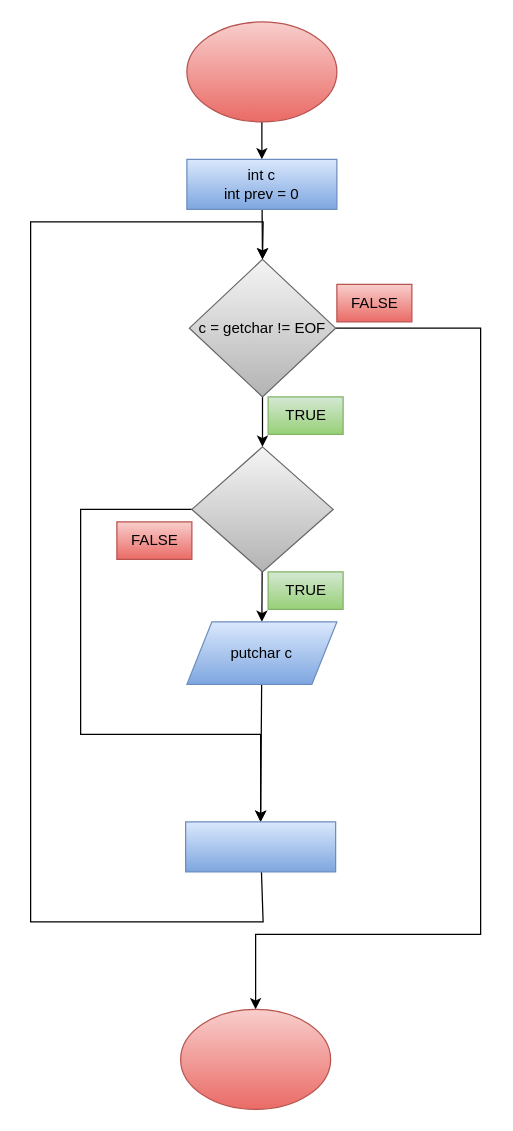
Some shapes in this 513 by 1131 pixel diagram are drawn without their labels. Each missing label, with the centre of its shape:
"c != ' ' || prev != ' '" belongs at point 262,509.
"END" belongs at point 255,1058.
"prev = c" belongs at point 260,846.
"START" belongs at point 261,71.
